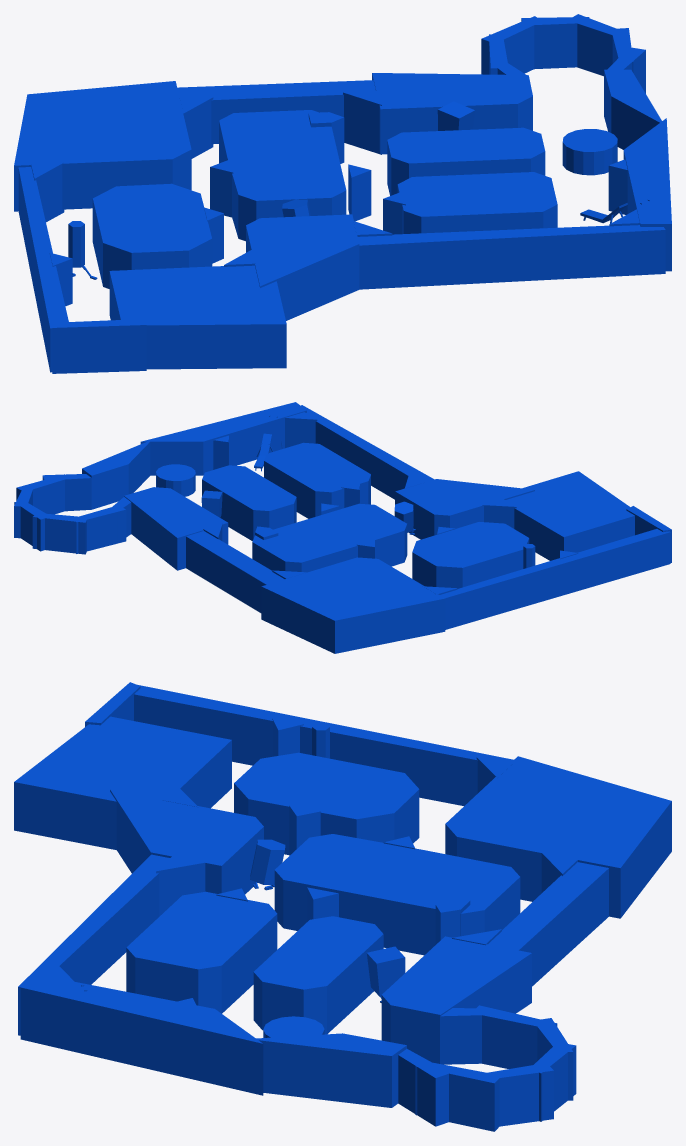
File: Hole_9_new_walls_1.glb
3 renders of one model, top to bottom at view 1: azimuth 30°, elevation 25°; view 2: azimuth 150°, elevation 25°; view 3: azimuth 270°, elevation 25°, orthographic. The views are drawn at different scales.
Visible parts, largest first — view 1: Hole 9 green walls.023, Hole 9 green walls.028, Hole 9 green walls.020, Hole 9 green walls.016, Hole 9 green walls.015, Hole 9 green walls.019, Hole 9 green walls.018, Hole 9 green walls.025, Hole 9 green walls.017, Hole 9 green walls.021, Hole 9 green walls.024, Hole 9 green walls.022 (+21 smaller); view 2: Hole 9 green walls.023, Hole 9 green walls.022, Hole 9 green walls.020, Hole 9 green walls.016, Hole 9 green walls.015, Hole 9 green walls.035, Hole 9 green walls.018, Hole 9 green walls.025, Hole 9 green walls.017, Hole 9 green walls.019, Hole 9 green walls.024, Hole 9 green walls.028 (+14 smaller); view 3: Hole 9 green walls.023, Hole 9 green walls.016, Hole 9 green walls.020, Hole 9 green walls.035, Hole 9 green walls.018, Hole 9 green walls.022, Hole 9 green walls.015, Hole 9 green walls.025, Hole 9 green walls.017, Hole 9 green walls.019, Hole 9 green walls.027, Hole 9 green walls.024 (+19 smaller).
Boxes of the visible parts, box(x1,y1,x2,y2) form: Hole 9 green walls.023: box(14, 81, 191, 211); Hole 9 green walls.028: box(357, 225, 665, 289); Hole 9 green walls.020: box(109, 265, 286, 369); Hole 9 green walls.016: box(219, 110, 346, 241); Hole 9 green walls.015: box(92, 183, 212, 288); Hole 9 green walls.019: box(246, 214, 359, 320); Hole 9 green walls.018: box(397, 172, 557, 233); Hole 9 green walls.025: box(372, 73, 532, 154); Hole 9 green walls.017: box(387, 127, 545, 195); Hole 9 green walls.021: box(52, 319, 146, 373); Hole 9 green walls.024: box(177, 80, 375, 144); Hole 9 green walls.022: box(18, 167, 68, 372); Hole 9 green walls.023: box(261, 557, 445, 653); Hole 9 green walls.022: box(440, 529, 670, 629); Hole 9 green walls.020: box(505, 471, 634, 560); Hole 9 green walls.016: box(252, 503, 407, 572); Hole 9 green walls.015: box(412, 522, 529, 588); Hole 9 green walls.035: box(140, 402, 306, 475); Hole 9 green walls.018: box(264, 442, 370, 518); Hole 9 green walls.025: box(124, 487, 228, 570); Hole 9 green walls.017: box(202, 465, 296, 540); Hole 9 green walls.019: box(395, 479, 534, 539); Hole 9 green walls.024: box(186, 531, 284, 612); Hole 9 green walls.028: box(301, 405, 434, 499); Hole 9 green walls.023: box(445, 756, 671, 918); Hole 9 green walls.016: box(274, 834, 520, 955); Hole 9 green walls.020: box(14, 716, 231, 849); Hole 9 green walls.035: box(20, 975, 263, 1095); Hole 9 green walls.018: box(126, 891, 277, 1013); Hole 9 green walls.022: box(134, 684, 513, 805); Hole 9 green walls.015: box(234, 752, 419, 854); Hole 9 green walls.025: box(381, 936, 531, 1063); Hole 9 green walls.017: box(253, 916, 383, 1034); Hole 9 green walls.019: box(110, 789, 263, 894); Hole 9 green walls.027: box(250, 1033, 406, 1107); Hole 9 green walls.024: box(488, 862, 608, 986).
Size of what is drawn, in the model's own units: 38.11 by 3.11 by 26.55.
